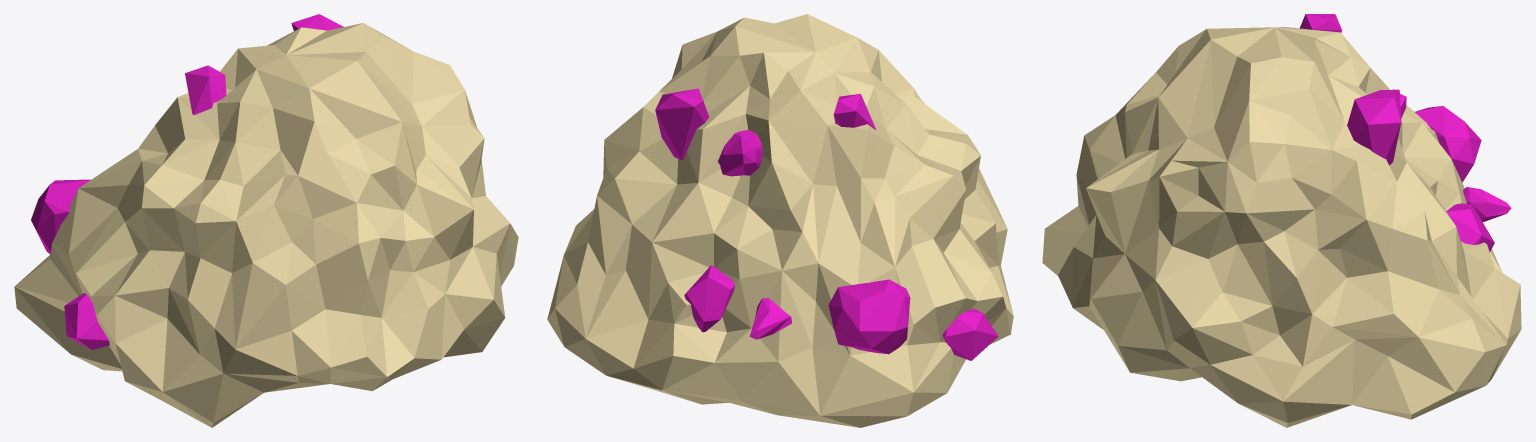
The model's file is CrystalOre (4).fbx.
3 renders of one model, left to right at view 1: azimuth 30°, elevation 25°; view 2: azimuth 150°, elevation 25°; view 3: azimuth 270°, elevation 25°, orthographic. The views are drawn at different scales.
Parts seen in each view (by area): view 1: Asteroid224; view 2: Asteroid224; view 3: Asteroid224.
Boxes of the visible parts, x1,y1,x2,y2 form: Asteroid224: (14, 14, 518, 427); Asteroid224: (547, 14, 1013, 427); Asteroid224: (1042, 14, 1521, 427).
Size of the model in its own units: 527 by 387 by 506.
